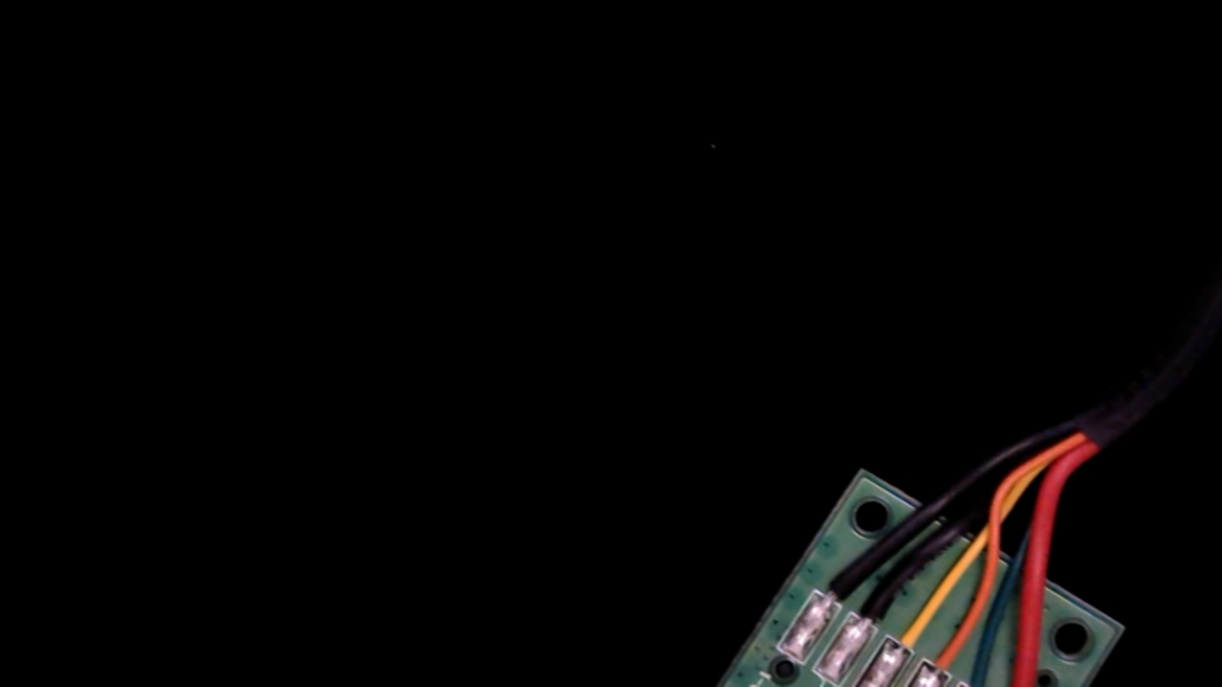Black: (839, 563, 916, 648)
Black1: (801, 544, 873, 624)
Green: (948, 636, 1023, 687)
Orange: (911, 609, 986, 687)
Red: (990, 653, 1064, 687)
Yellow: (872, 586, 950, 674)
